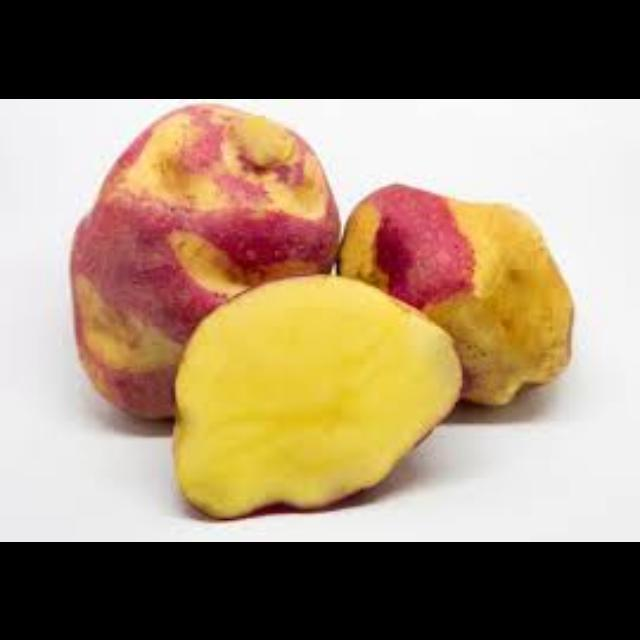Damaged potato: (68, 100, 338, 424), (330, 180, 578, 412)
